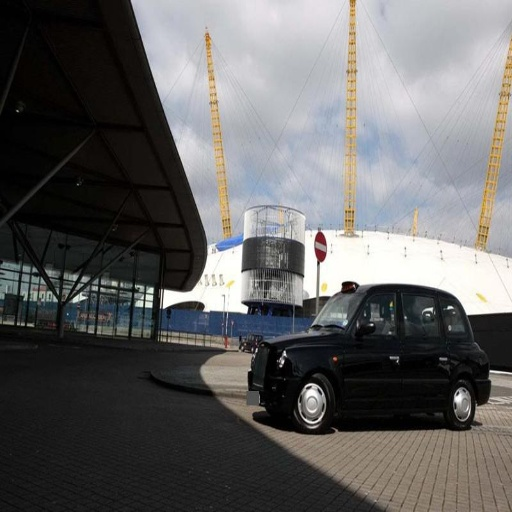back_glass: (74, 55, 111, 98)
